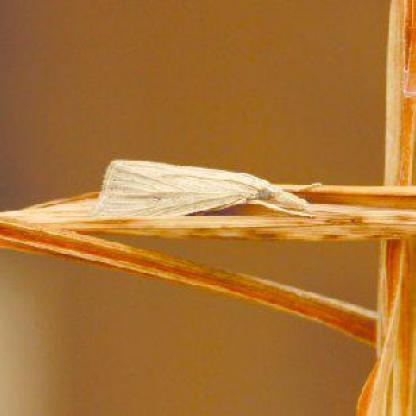stem-borer: (89, 156, 324, 221)
